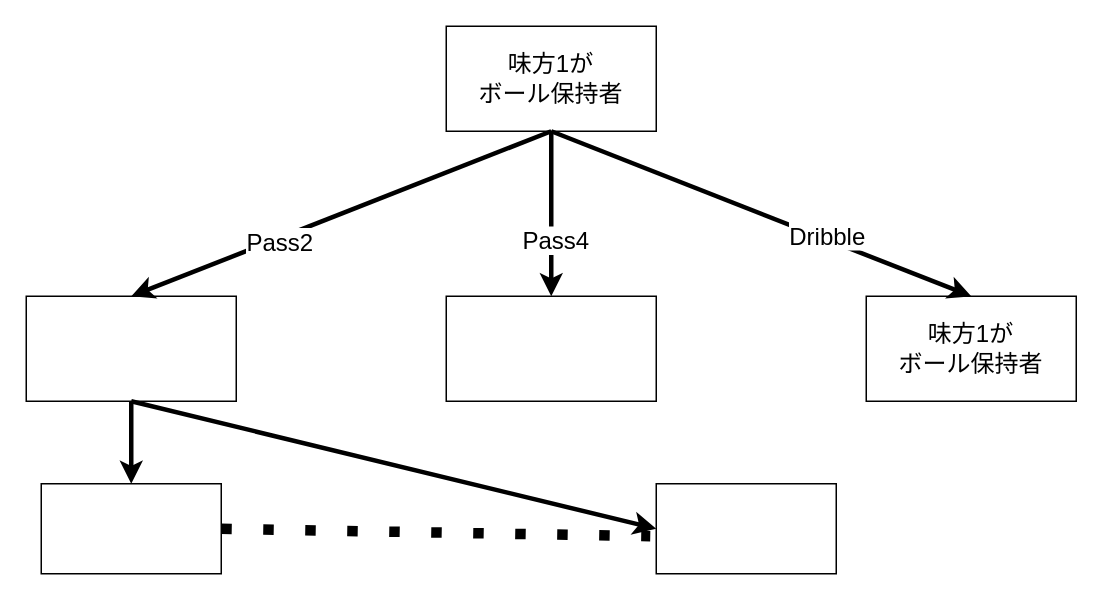
The diagram is 1103 pixels wide and 600 high, and some of its shapes have lost their labels. Each missing label, with the centre of its shape:
"味方2が ボール保持者" belongs at [130,348].
"敵2が ボール保持者" belongs at [550,348].
